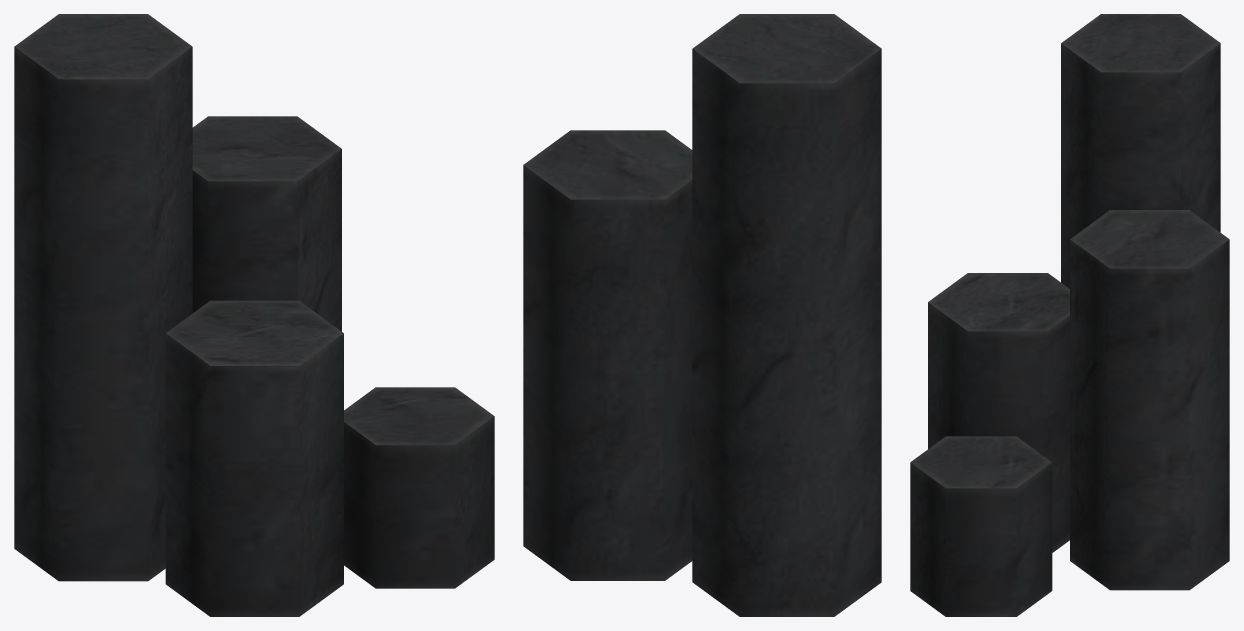
The model's file is basalt_column_1.glb.
3 views of the same model, side by side, from view 1: azimuth 30°, elevation 25°; view 2: azimuth 150°, elevation 25°; view 3: azimuth 270°, elevation 25° (orthographic). The views are drawn at different scales.
Visible parts, largest first — view 1: te_prop_basalt_column_1; view 2: te_prop_basalt_column_1; view 3: te_prop_basalt_column_1.
Boxes of the visible parts, x1=… form: te_prop_basalt_column_1: x1=14, y1=14, x2=494, y2=616; te_prop_basalt_column_1: x1=523, y1=14, x2=881, y2=616; te_prop_basalt_column_1: x1=910, y1=14, x2=1229, y2=616.
Size of the model in its own units: 0.2036 by 0.28 by 0.18.
Materials: 1 (1 with a texture image).
